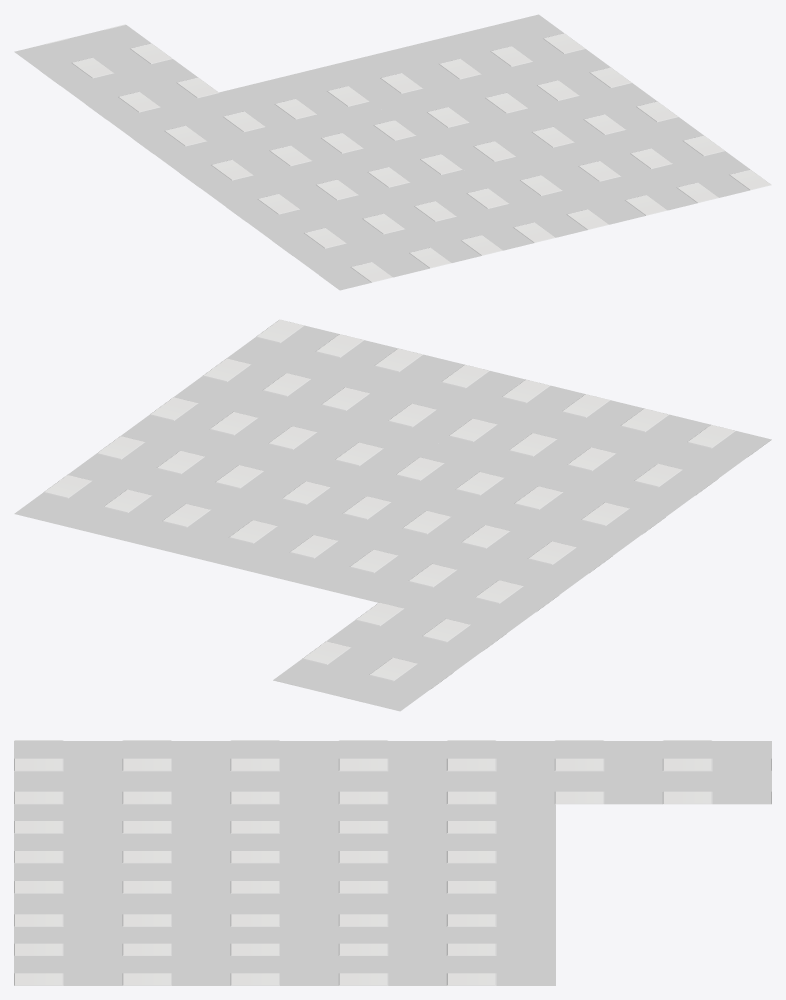
File: SM_Ceiling.fbx
3 views of the same model, one above another, from view 1: azimuth 30°, elevation 25°; view 2: azimuth 150°, elevation 25°; view 3: azimuth 270°, elevation 25° (orthographic). The views are drawn at different scales.
Parts seen in each view (by area): view 1: SM_Ceiling; view 2: SM_Ceiling; view 3: SM_Ceiling.
Boxes of the visible parts, x1,y1,x2,y2 form: SM_Ceiling: (14, 14, 771, 290); SM_Ceiling: (14, 319, 771, 711); SM_Ceiling: (14, 740, 771, 985).
Size of the model in its own units: 1866 by 1.47 by 2438.
2 materials, 2 textured.
